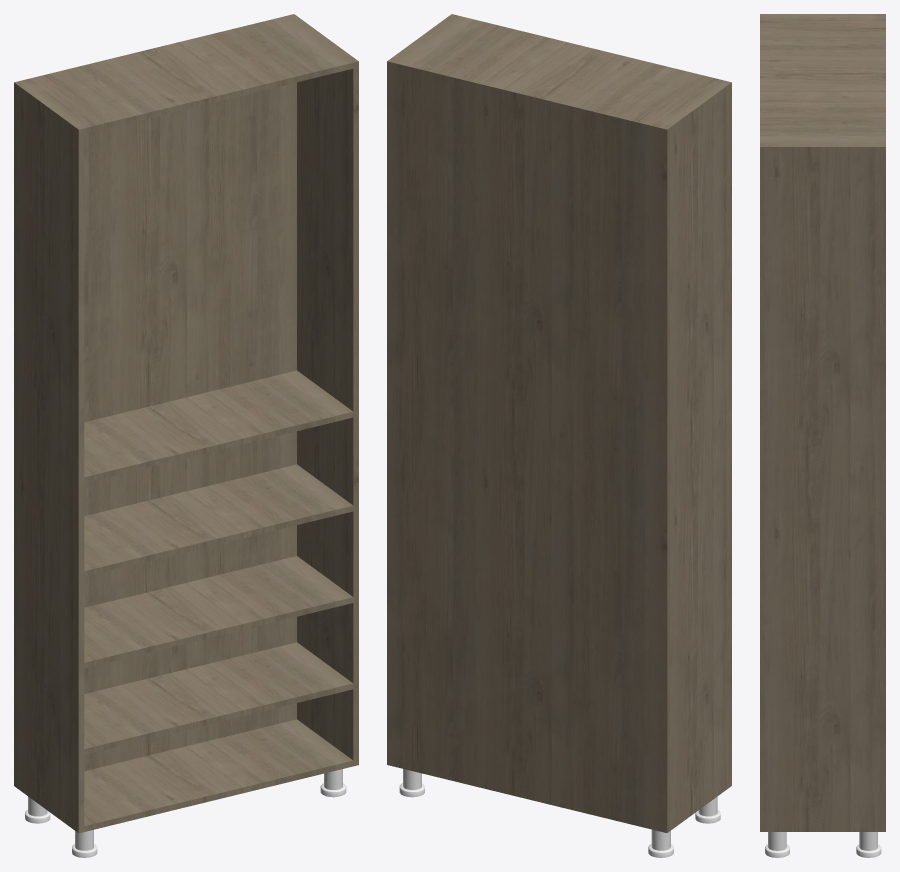
3 renders of one model, left to right at view 1: azimuth 30°, elevation 25°; view 2: azimuth 150°, elevation 25°; view 3: azimuth 270°, elevation 25°, orthographic. The views are drawn at different scales.
Parts seen in each view (by area): view 1: Box001, Box016, Box017, Box018, Box019; view 2: Box001; view 3: Box001, Cylinder004, Cylinder005.
Part boxes in pixels (x1,y1,x2,y2): Box001: (14, 14, 358, 833); Box016: (84, 642, 353, 754); Box017: (84, 556, 353, 668); Box018: (84, 370, 353, 482); Box019: (84, 464, 353, 576); Box001: (387, 14, 731, 832); Box001: (760, 14, 885, 831); Cylinder004: (856, 832, 881, 857); Cylinder005: (765, 832, 789, 857).
Size of the model in its own units: 1 by 2.5 by 0.4001.
Materials: 2 (1 with a texture image).
